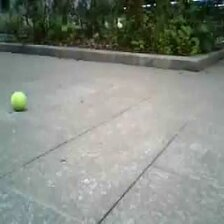tennis: (12, 91, 26, 111)
